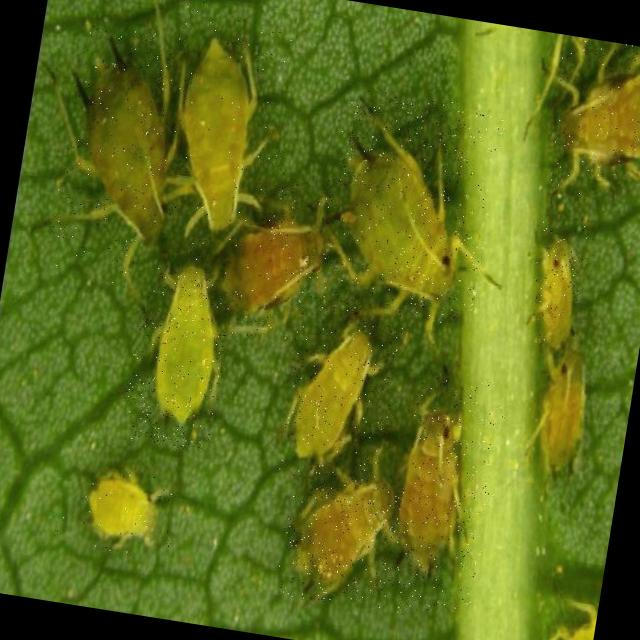aphid: (313, 85, 504, 328), (144, 0, 297, 286), (44, 22, 196, 291), (383, 373, 506, 617), (215, 166, 366, 354), (118, 224, 240, 451), (276, 311, 403, 494), (274, 465, 418, 614), (518, 326, 628, 520), (536, 34, 640, 208), (50, 456, 183, 560), (524, 220, 588, 346)
